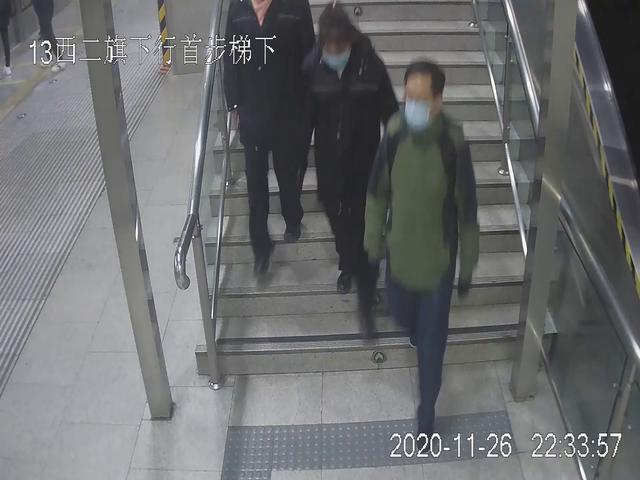person: (359, 54, 481, 458), (295, 1, 403, 346), (217, 1, 321, 287)
